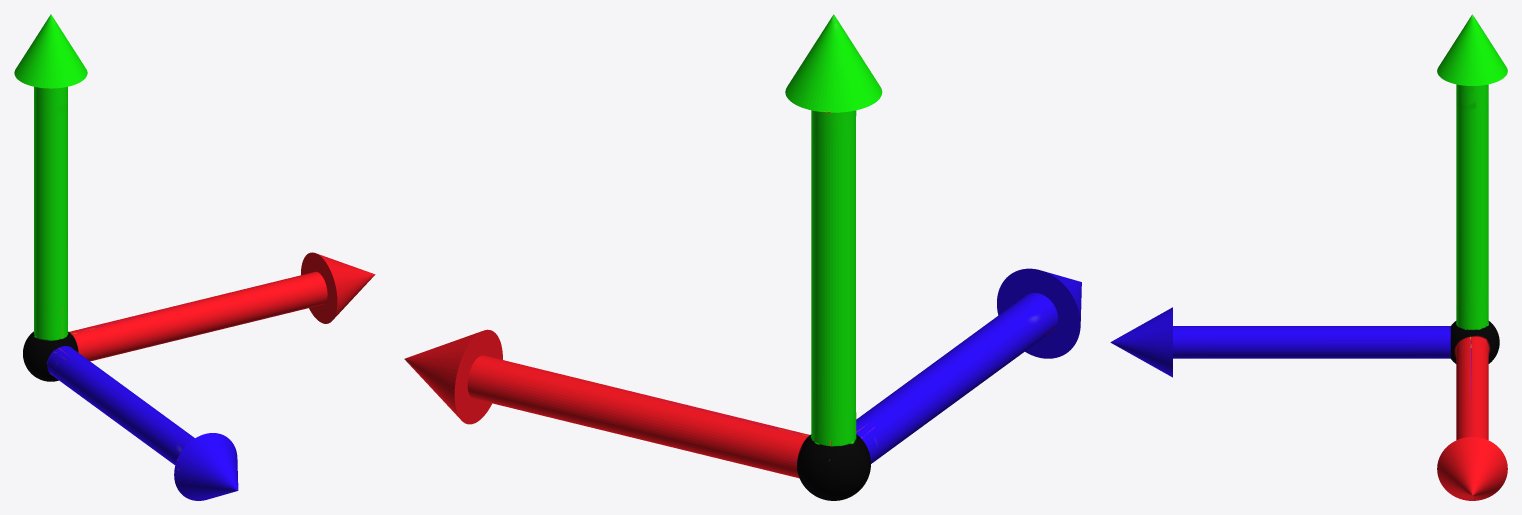
File: frame.obj
3 views of the same model, side by side, from view 1: azimuth 30°, elevation 25°; view 2: azimuth 150°, elevation 25°; view 3: azimuth 270°, elevation 25° (orthographic). The views are drawn at different scales.
Parts seen in each view (by area): view 1: frame; view 2: frame; view 3: frame.
Boxes of the visible parts, x1,y1,x2,y2 form: frame: (14, 14, 375, 500); frame: (404, 14, 1081, 500); frame: (1110, 14, 1507, 500).
Bounding box in the file's own units: 1.83 × 1.83 × 1.83.
1 material, 1 textured.
